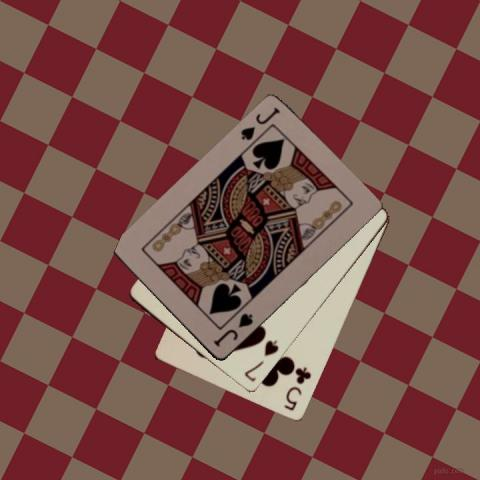5c: (280, 364, 312, 413)
7s: (241, 337, 281, 384)
Js: (238, 104, 282, 143), (210, 310, 255, 348)
